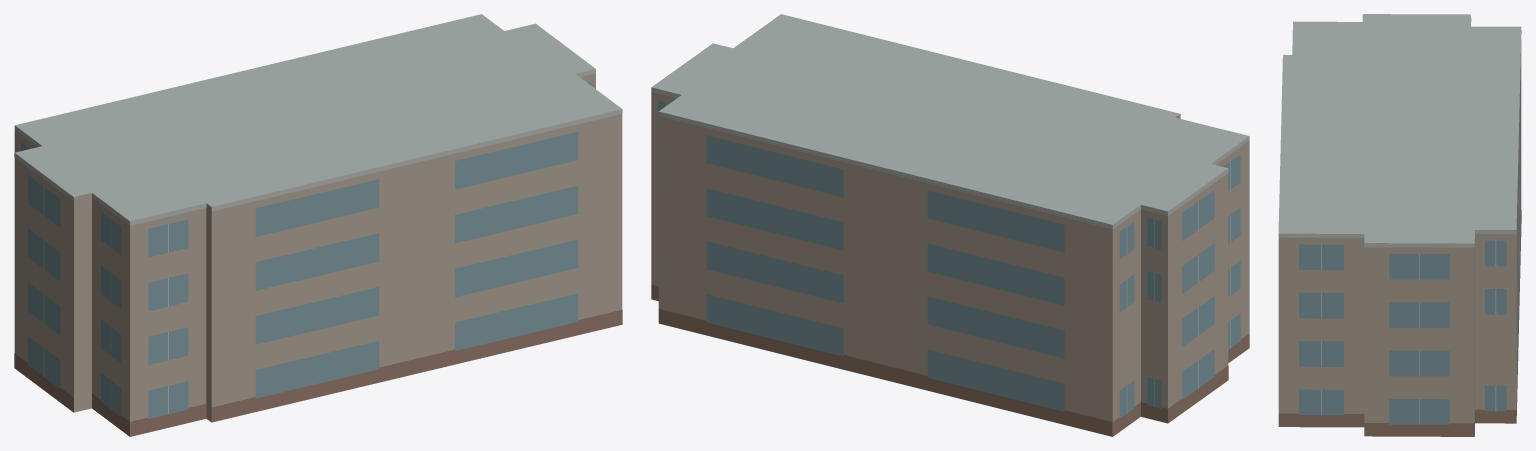
Rendered from survey-upis-32816275.glb.
The picture shows the model from 3 angles, left to right: view 1: azimuth 30°, elevation 25°; view 2: azimuth 150°, elevation 25°; view 3: azimuth 270°, elevation 25°; orthographic projection. The views are drawn at different scales.
Parts seen in each view (by area): view 1: survey-upis-32816275.tmp; view 2: survey-upis-32816275.tmp; view 3: survey-upis-32816275.tmp.
Part boxes in pixels (<box>): survey-upis-32816275.tmp: <box>14,14,622,436</box>; survey-upis-32816275.tmp: <box>651,14,1249,436</box>; survey-upis-32816275.tmp: <box>1278,14,1521,436</box>.
Bounding box in the file's own units: 29.03 × 11.4 × 12.99.
